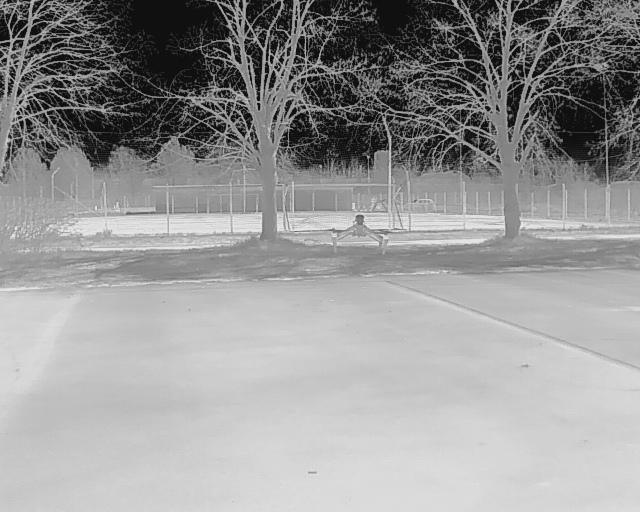drone: (309, 202, 410, 263)
